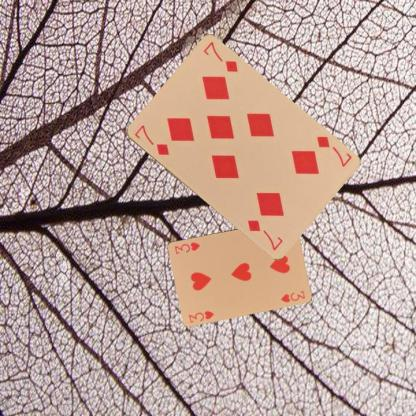3h: (186, 308, 216, 324)
7d: (313, 134, 353, 168), (131, 122, 170, 156)
